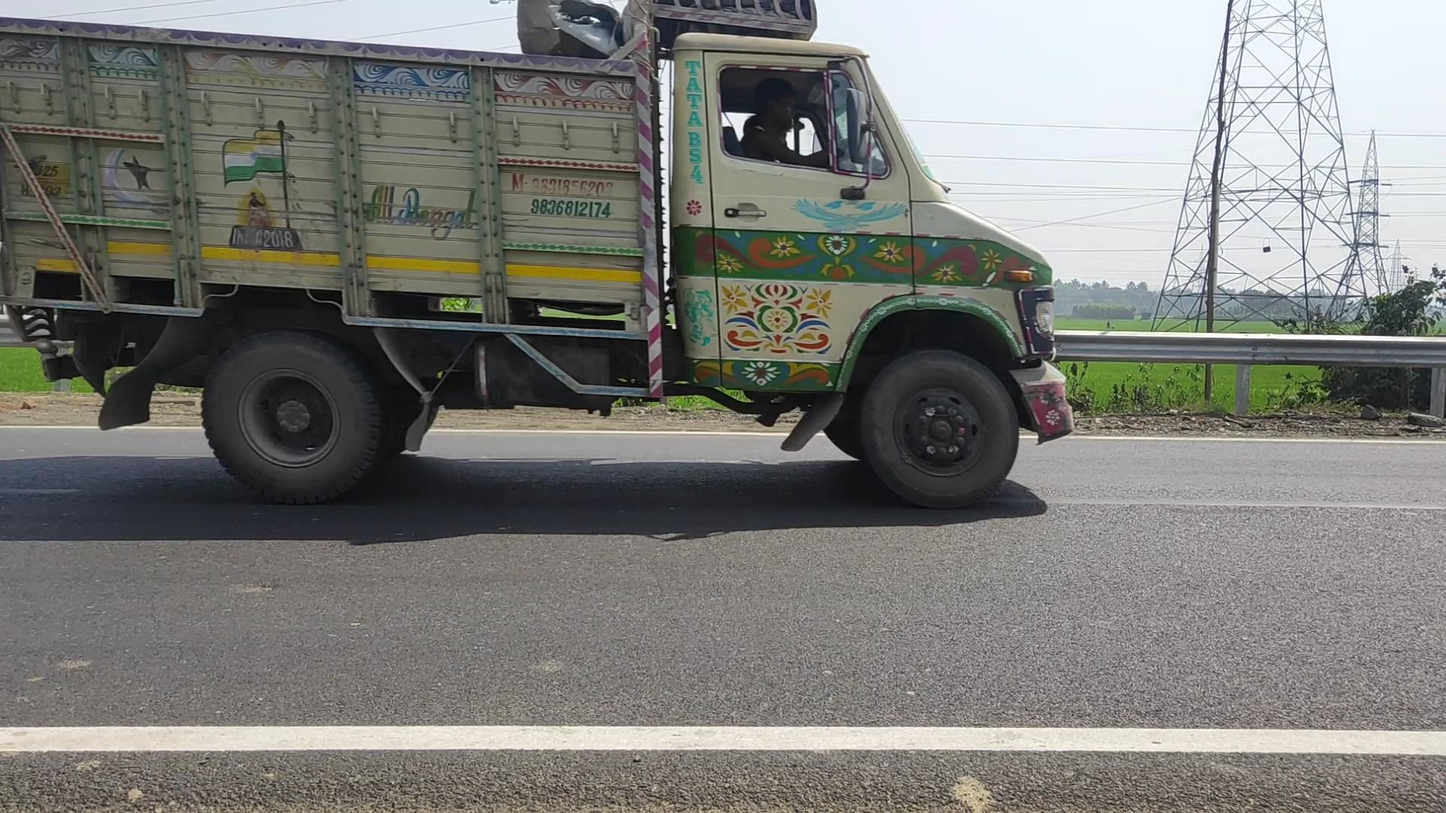truck: (2, 2, 1074, 512)
